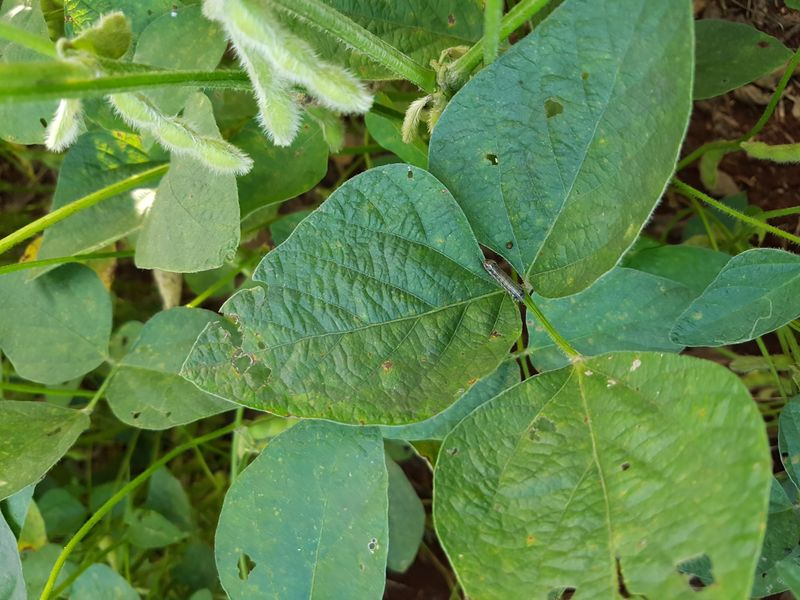Spodoptera_albula: (474, 252, 538, 311)
